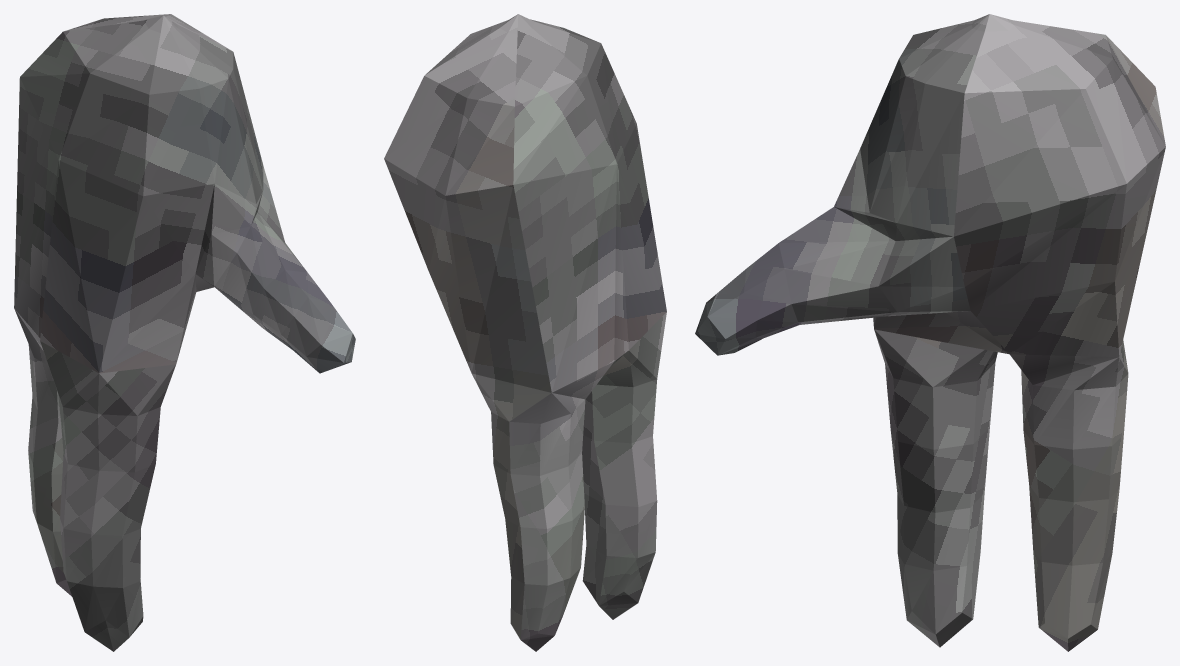
File: Gorilla_right_hand.fbx
3 renders of one model, left to right at view 1: azimuth 30°, elevation 25°; view 2: azimuth 150°, elevation 25°; view 3: azimuth 270°, elevation 25°, orthographic. The views are drawn at different scales.
Parts seen in each view (by area): view 1: GorillaBody; view 2: GorillaBody; view 3: GorillaBody.
Boxes of the visible parts, box(x1,y1,x2,y2) form: GorillaBody: box(14, 14, 355, 651); GorillaBody: box(384, 14, 666, 651); GorillaBody: box(695, 14, 1165, 651).
Size of the model in its own units: 8.23 by 23.3 by 14.78.
